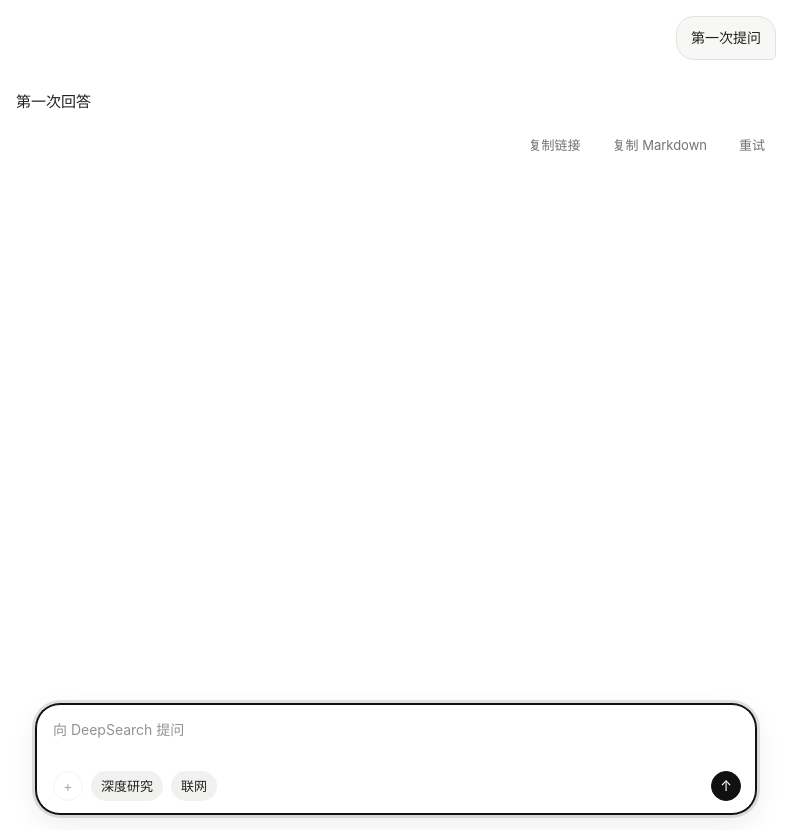
keeps the previous turn visible after a second question is sent
Expected: the text "第一次回答" is shown, x1=16 y1=92 x2=91 y2=111
Step 1. Type "第二次提问" into the text box → (397, 737), box x1=53 y1=719 x2=741 y2=755
Then press Enter
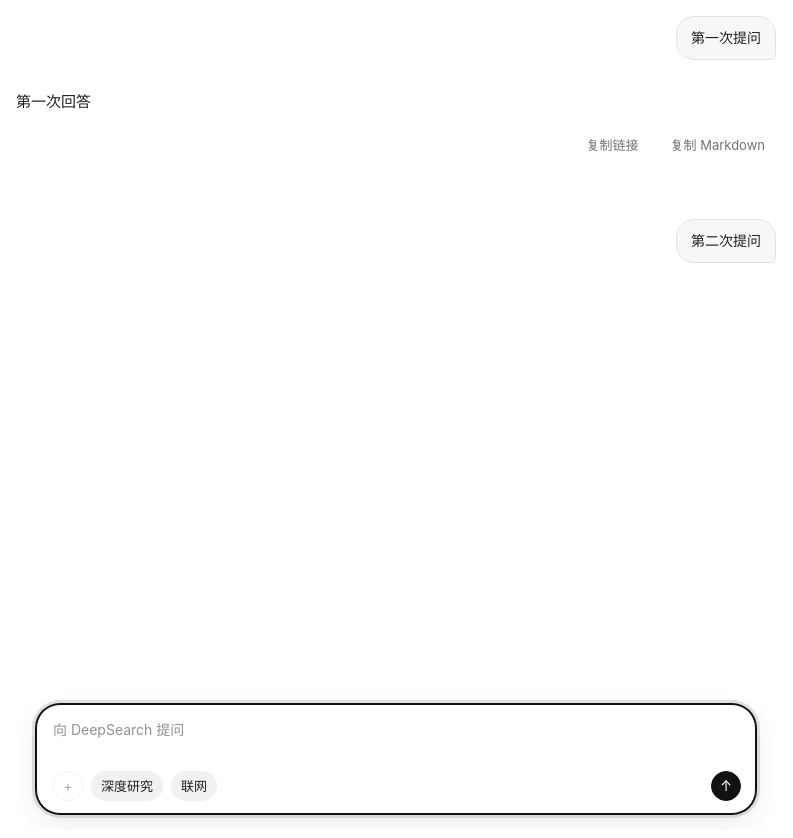
Expected: the text "第一次提问" is shown, x1=676 y1=16 x2=776 y2=60
Expected: the text "第二次提问" is shown, x1=676 y1=219 x2=776 y2=263
